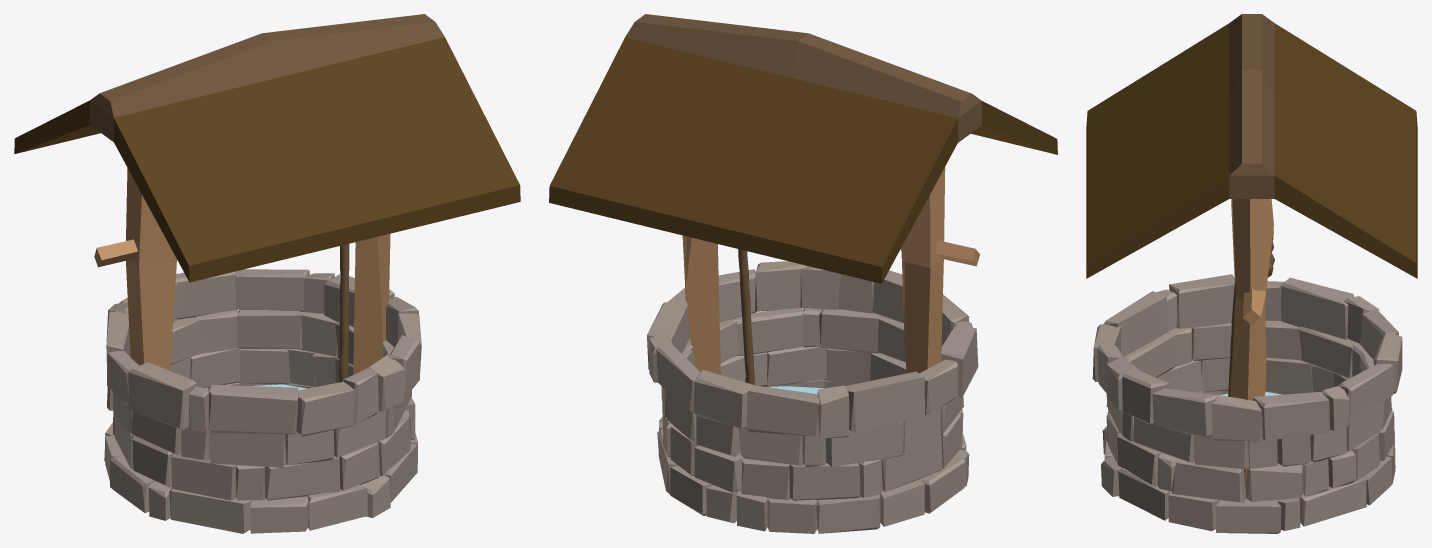
Rendered from sumur.fbx.
The picture shows the model from 3 angles, left to right: view 1: azimuth 30°, elevation 25°; view 2: azimuth 150°, elevation 25°; view 3: azimuth 270°, elevation 25°; orthographic projection. The views are drawn at different scales.
Parts seen in each view (by area): view 1: Cube.070, sumur.003, sumur.001, sumur.002, sumur.006, Cube.067, Cube.068, Circle, Cube.069; view 2: Cube.070, sumur.003, sumur.002, sumur.001, sumur.006, Cube.067, Cube.068, Circle, Cube.069; view 3: Cube.070, sumur.003, sumur.002, sumur.001, sumur.006, Cube.068, Cube.069, Circle.
Boxes of the visible parts, x1,y1,x2,y2 form: Cube.070: [14, 14, 520, 282]; sumur.003: [106, 269, 421, 436]; sumur.001: [113, 348, 415, 500]; sumur.002: [107, 309, 411, 467]; sumur.006: [104, 383, 417, 533]; Cube.067: [126, 168, 176, 370]; Cube.068: [353, 233, 390, 374]; Circle: [339, 244, 349, 382]; Cube.069: [94, 239, 137, 267]; Cube.070: [549, 14, 1057, 283]; sumur.003: [647, 261, 978, 438]; sumur.002: [661, 308, 963, 467]; sumur.001: [662, 346, 963, 500]; sumur.006: [657, 379, 969, 533]; Cube.067: [901, 167, 945, 373]; Cube.068: [682, 235, 720, 374]; Circle: [738, 249, 754, 385]; Cube.069: [900, 240, 979, 266]; Cube.070: [1086, 14, 1417, 278]; sumur.003: [1092, 274, 1402, 441]; sumur.002: [1106, 320, 1391, 469]; sumur.001: [1106, 357, 1394, 502]; sumur.006: [1101, 390, 1395, 533]; Cube.068: [1230, 199, 1273, 492]; Cube.069: [1243, 289, 1265, 325]; Circle: [1228, 230, 1274, 396].
Bounding box in the file's own units: 367 × 449 × 332.
